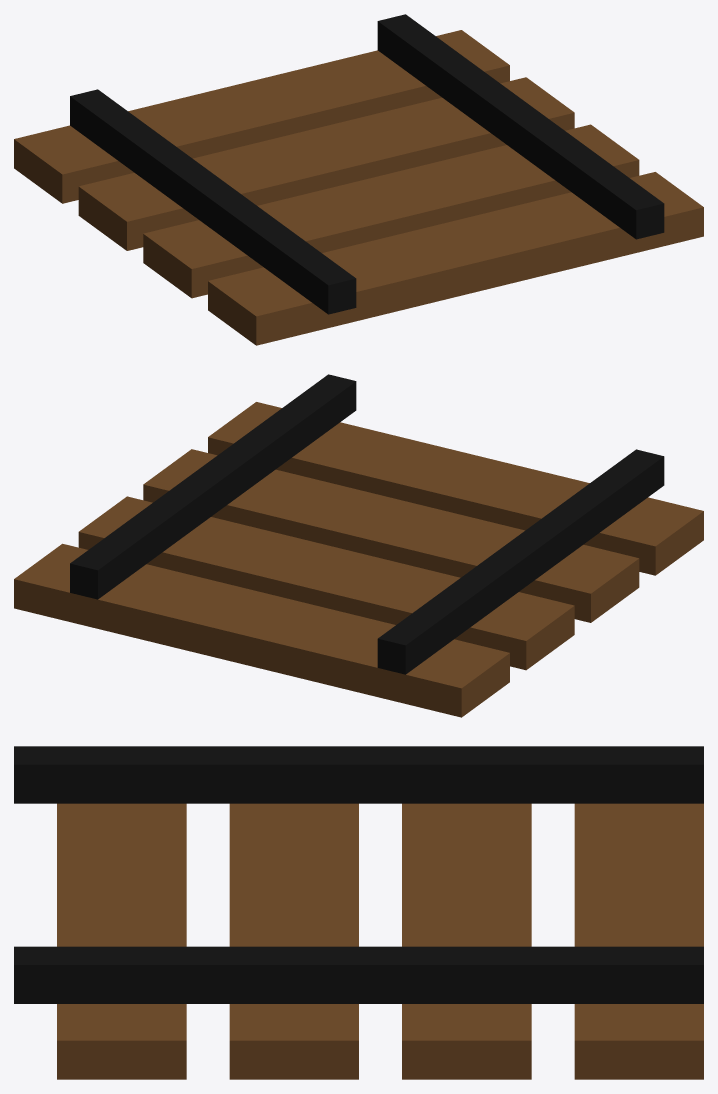
The model's file is rail.obj.
3 renders of one model, top to bottom at view 1: azimuth 30°, elevation 25°; view 2: azimuth 150°, elevation 25°; view 3: azimuth 270°, elevation 25°, orthographic. The views are drawn at different scales.
Size of the model in its own units: 1.6 by 0.2 by 1.6.
Materials: 1 (1 with a texture image).
